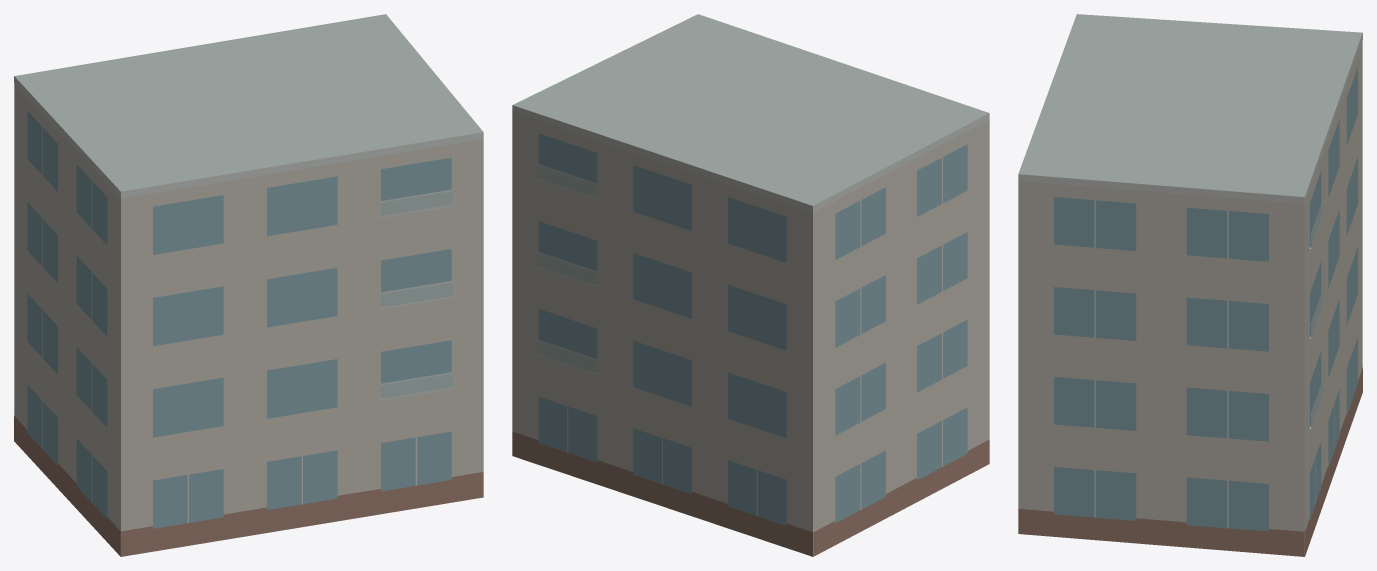
File: survey-upis-32706180.glb
The picture shows the model from 3 angles, left to right: view 1: azimuth 30°, elevation 25°; view 2: azimuth 150°, elevation 25°; view 3: azimuth 270°, elevation 25°; orthographic projection. The views are drawn at different scales.
Visible parts, largest first — view 1: survey-upis-32706180.tmp; view 2: survey-upis-32706180.tmp; view 3: survey-upis-32706180.tmp.
Boxes of the visible parts, x1=… form: survey-upis-32706180.tmp: x1=14, y1=14, x2=483, y2=556; survey-upis-32706180.tmp: x1=512, y1=14, x2=989, y2=556; survey-upis-32706180.tmp: x1=1018, y1=14, x2=1362, y2=556.
Size of the model in its own units: 13.98 by 12.8 by 11.12.
